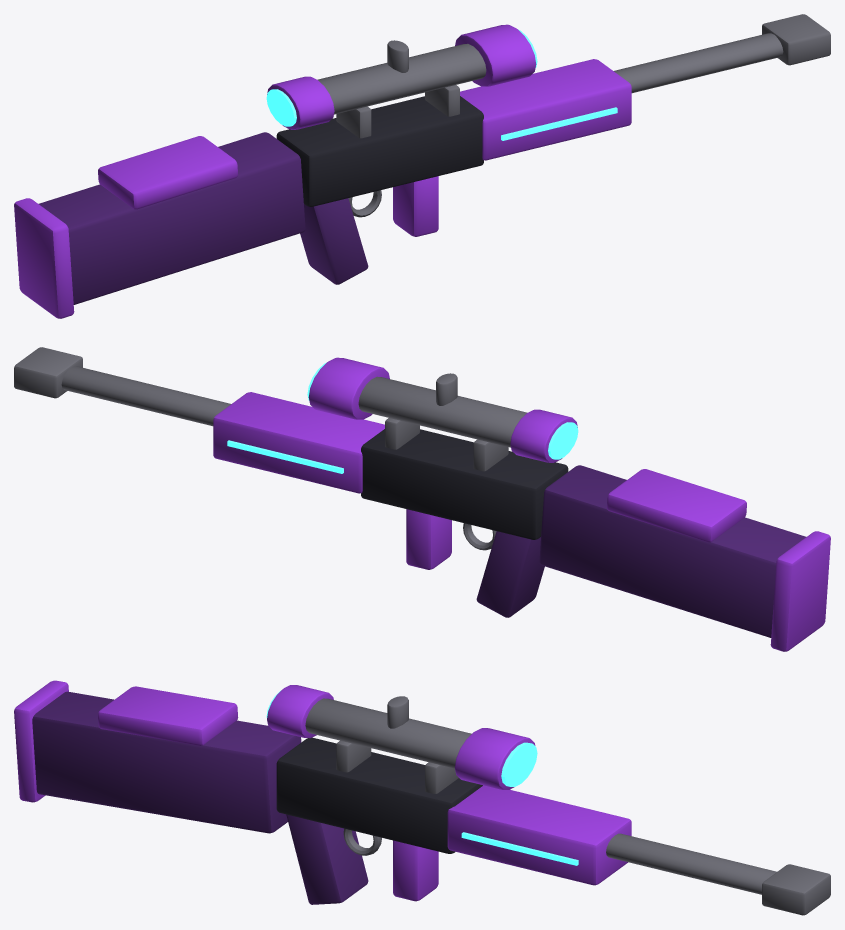
File: SGP_Sniper_Neon.glb
The picture shows the model from 3 angles, top to bottom: view 1: azimuth 30°, elevation 25°; view 2: azimuth 150°, elevation 25°; view 3: azimuth 330°, elevation 25°; orthographic projection.
Parts seen in each view (by area): view 1: SGP_Sniper_Neon; view 2: SGP_Sniper_Neon; view 3: SGP_Sniper_Neon.
Boxes of the visible parts, x1,y1,x2,y2 form: SGP_Sniper_Neon: [14, 14, 830, 318]; SGP_Sniper_Neon: [14, 347, 830, 651]; SGP_Sniper_Neon: [14, 680, 830, 915].
Bounding box in the file's own units: 0.8882 × 0.2295 × 0.08.
